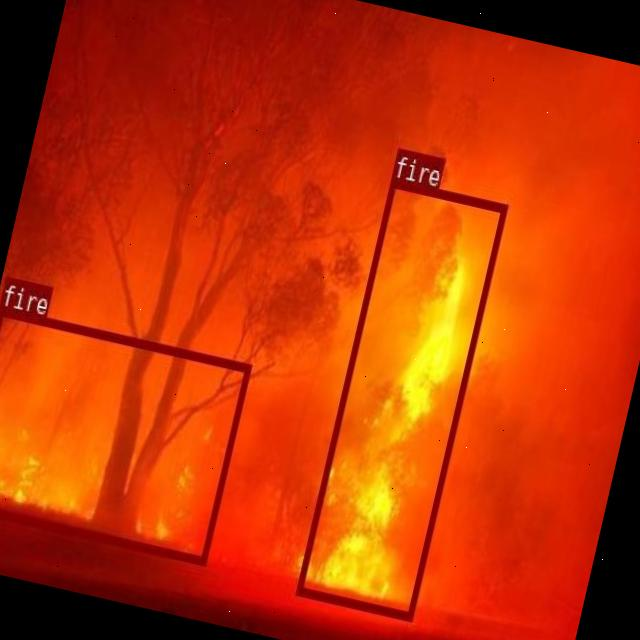fire: (295, 176, 507, 619), (0, 305, 249, 564)
